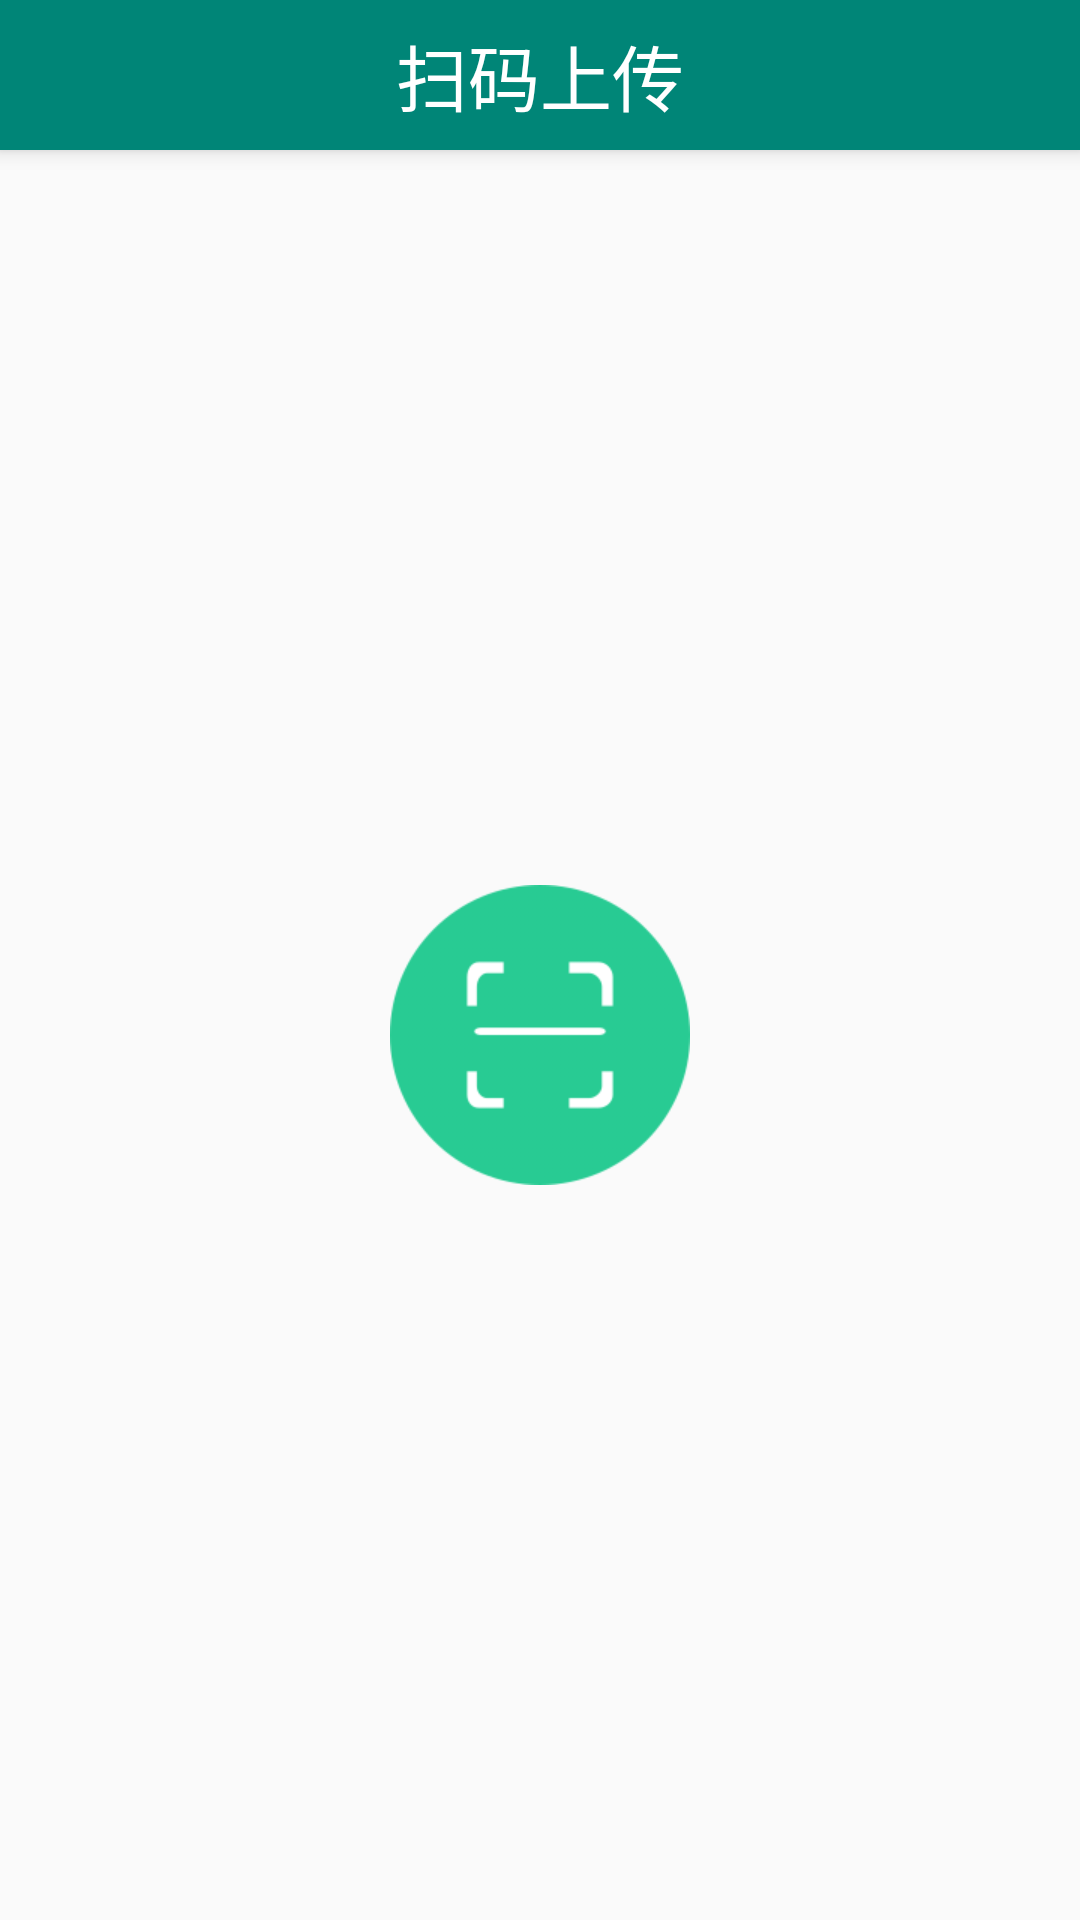

Locate icon controls on the screen. Image size 1080×1920, boxes as {"left": x1, "top": y1, "right": x2, "bottom": y2}.
saoma: {"left": 390, "top": 885, "right": 690, "bottom": 1185}
